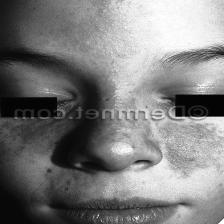Non-Cancerous Skin Condition: (0, 124, 224, 187), (88, 0, 166, 98)
